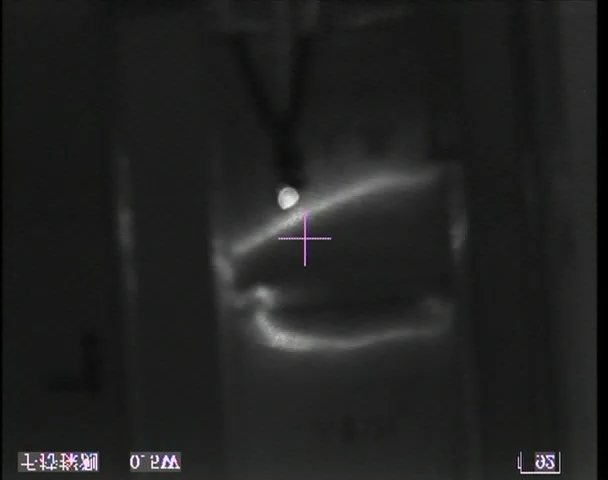my: (275, 187, 302, 212)
